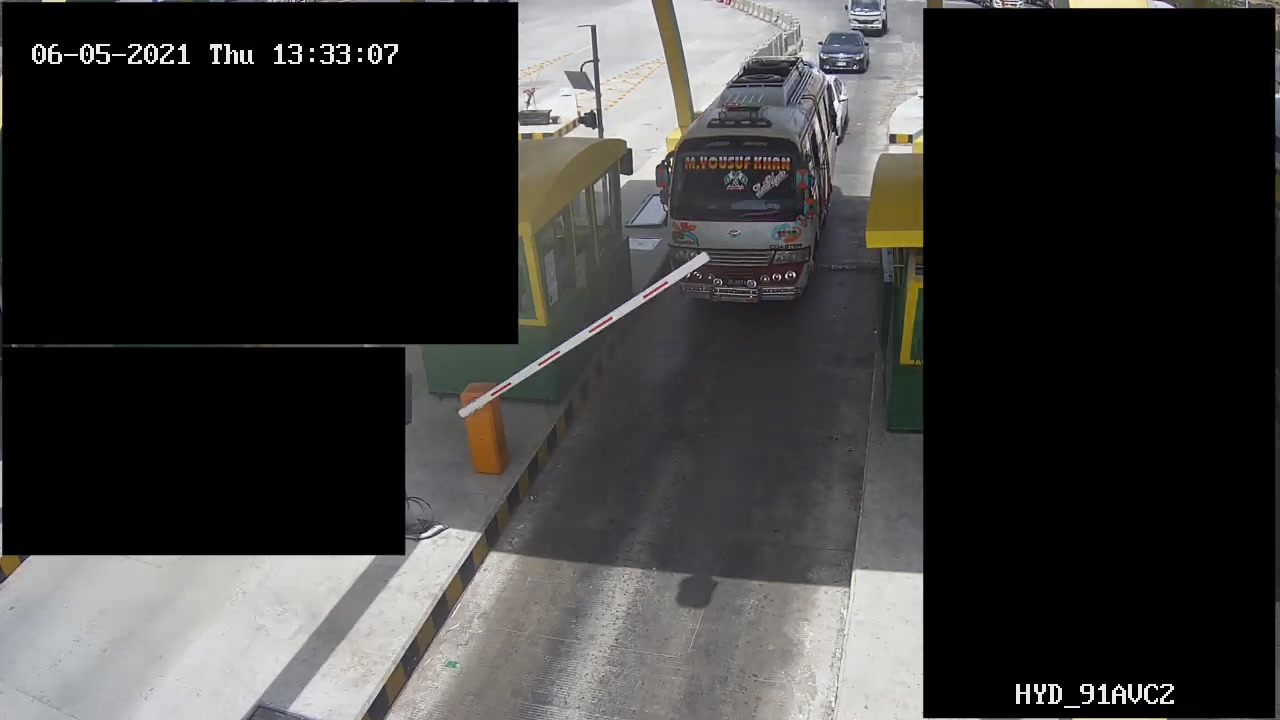F4: (659, 60, 844, 309)
